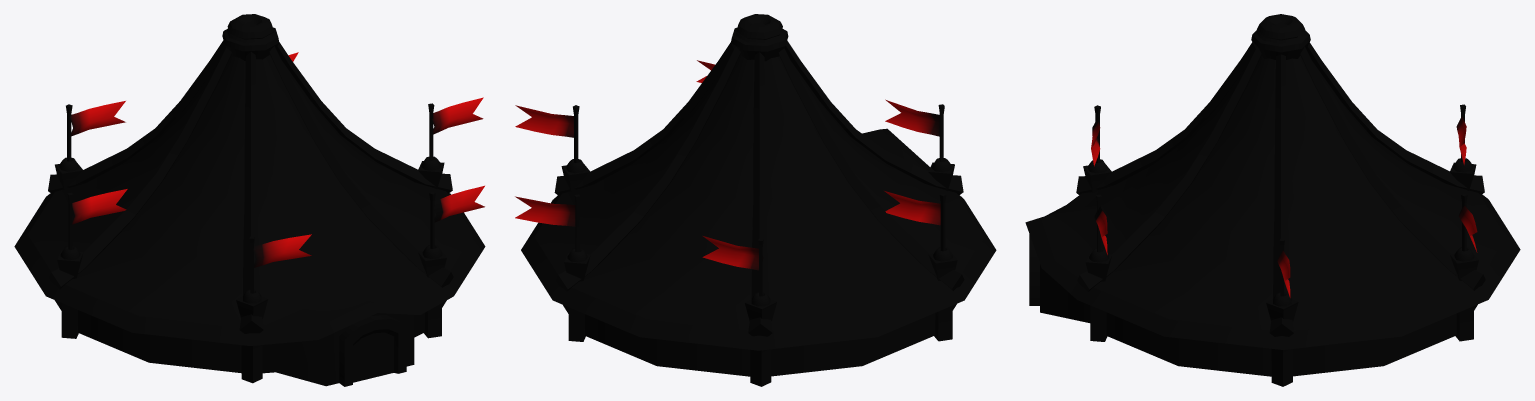
Rendered from SM_Barracks.fbx.
3 renders of one model, left to right at view 1: azimuth 30°, elevation 25°; view 2: azimuth 150°, elevation 25°; view 3: azimuth 270°, elevation 25°, orthographic.
Parts seen in each view (by area): view 1: SM_Barracks; view 2: SM_Barracks; view 3: SM_Barracks.
Part boxes in pixels (x1,y1,x2,y2): SM_Barracks: (14,14,485,386); SM_Barracks: (515,14,996,386); SM_Barracks: (1025,14,1520,386).
Size of what is drawn, in the model's own units: 591 by 345 by 568.
